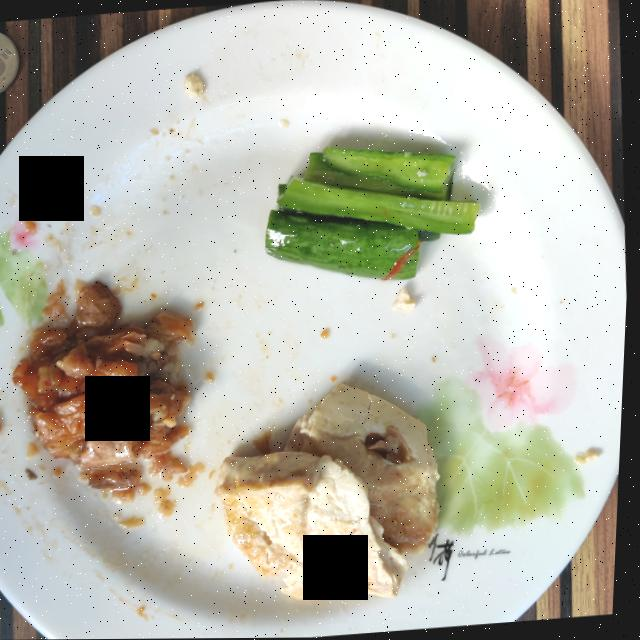Kabayaki sea bream fillet: (16, 281, 196, 495)
coin: (0, 32, 18, 92)
cucumber: (267, 147, 482, 280)
